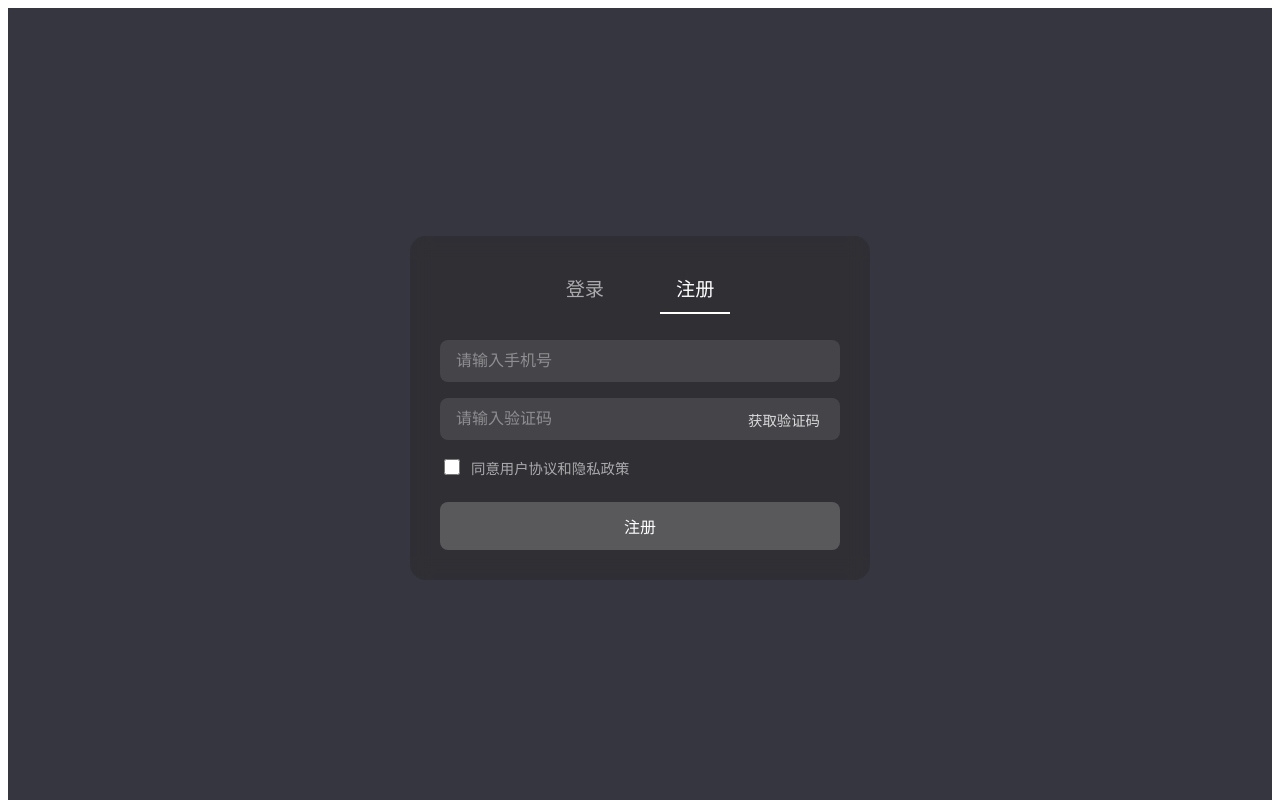
注册页面 › 注册提交 › 验证码过期显示错误信息
Type "13800138000" into the field with test id "phone-input" at (640, 361), box [440,340,840,382]
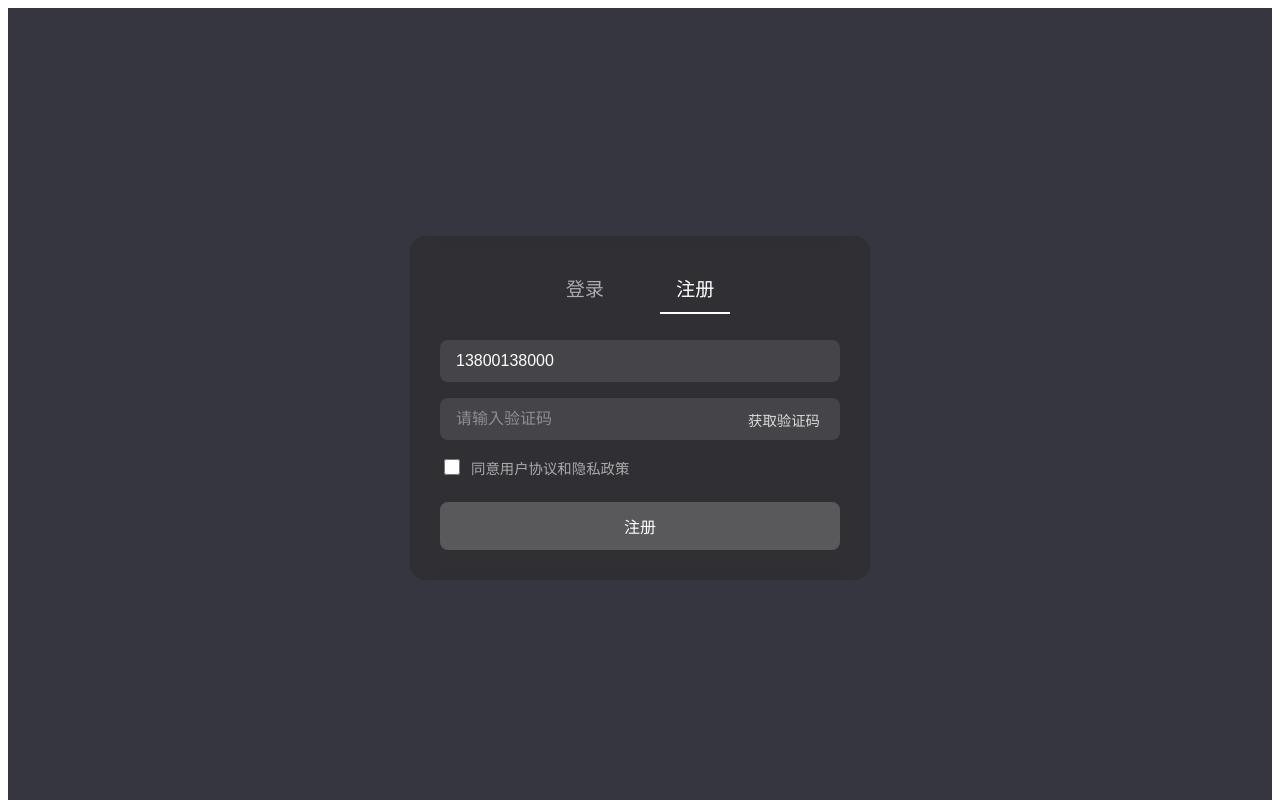
Type "123456" into the field with test id "code-input" at (640, 419), box [440,398,840,440]
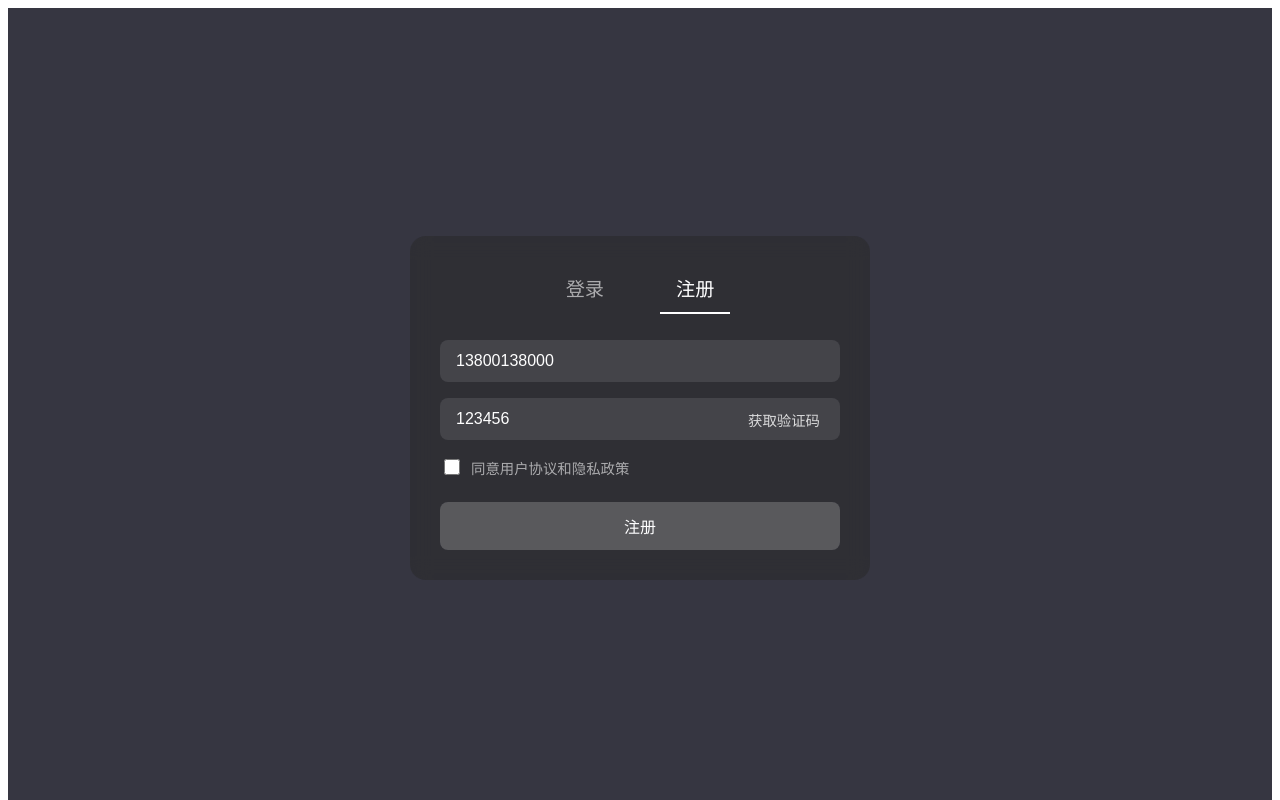
Click the checkbox with test id "agree-checkbox" at (452, 467), box [444,459,460,475]
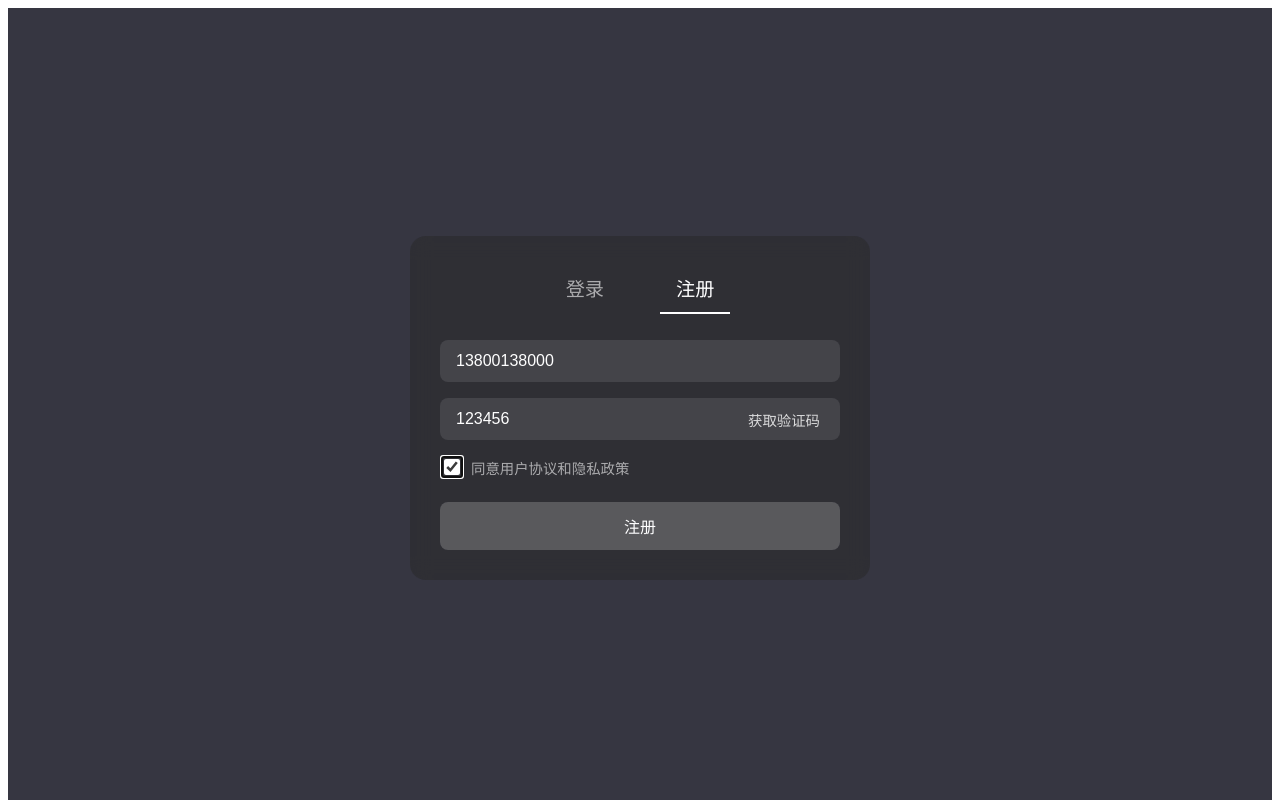
Click the button with test id "submit-button" at (640, 526), box [440,502,840,550]
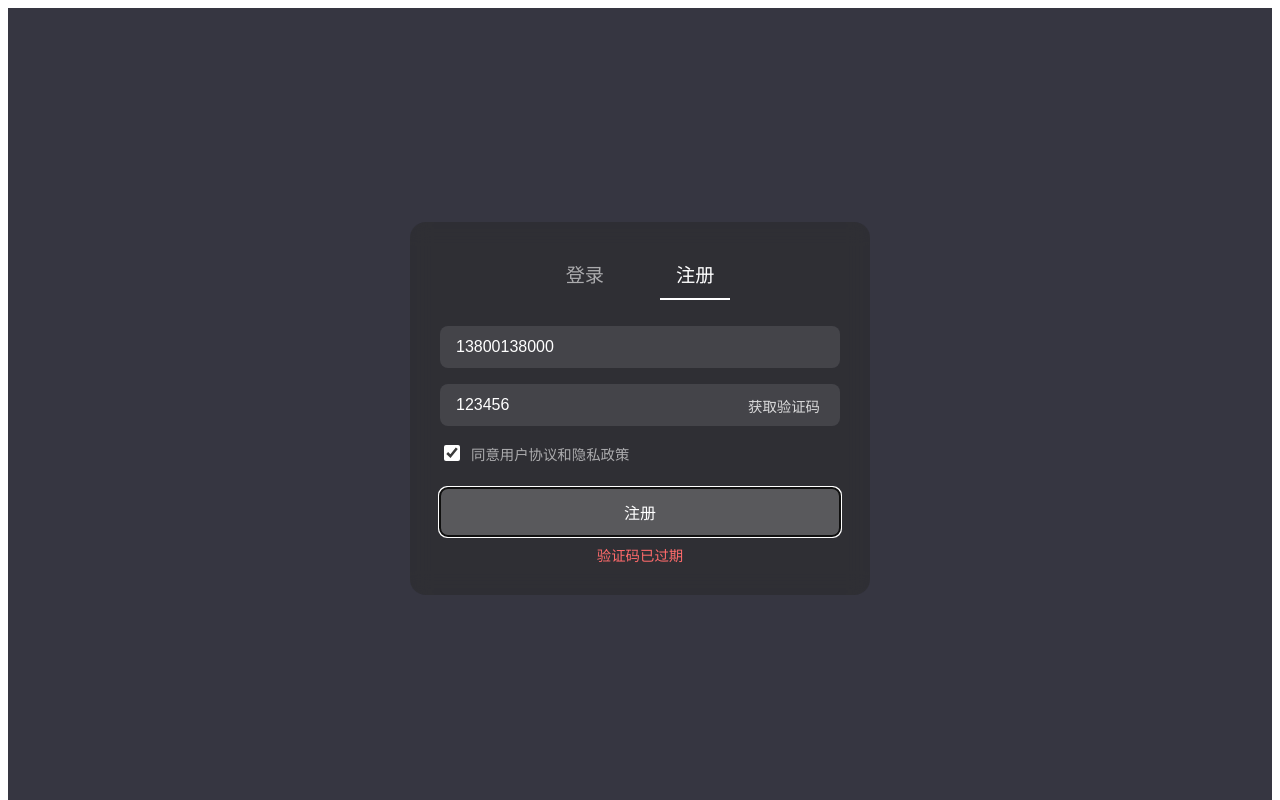
Expected: the text with test id "message" reads "验证码已过期", [597,548,683,564]
